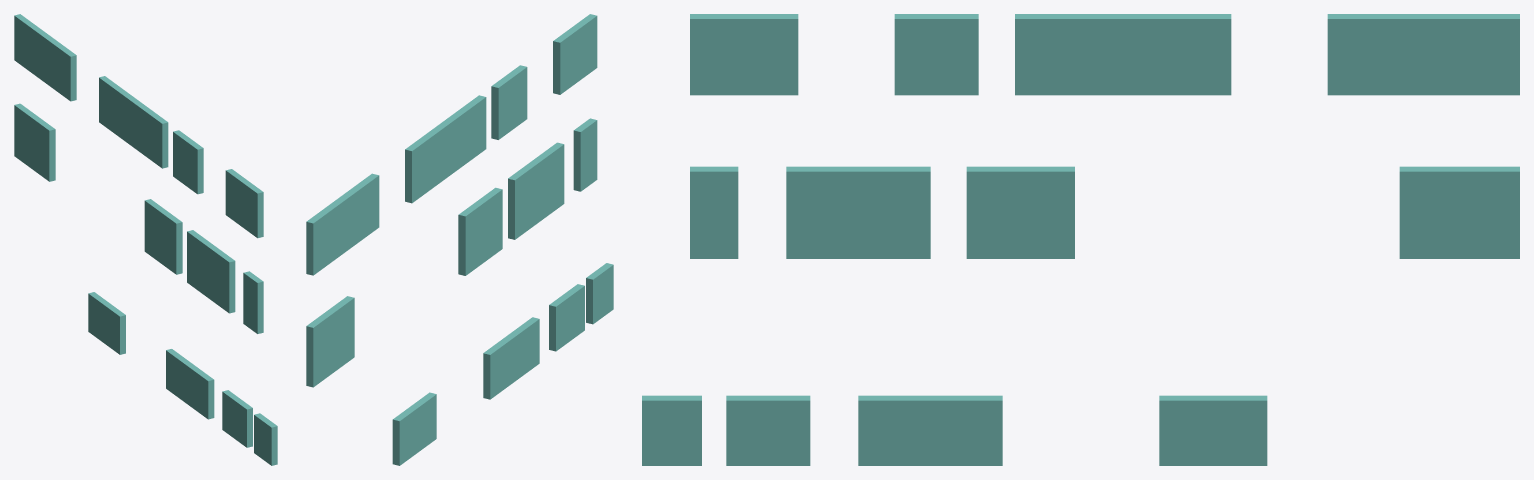
Rendered from SideBuildings3-0.obj.
3 renders of one model, left to right at view 1: azimuth 30°, elevation 25°; view 2: azimuth 150°, elevation 25°; view 3: azimuth 270°, elevation 25°, orthographic. The views are drawn at different scales.
Bounding box in the file's own units: 0.1 × 4.1 × 7.3.
1 material, 1 textured.
